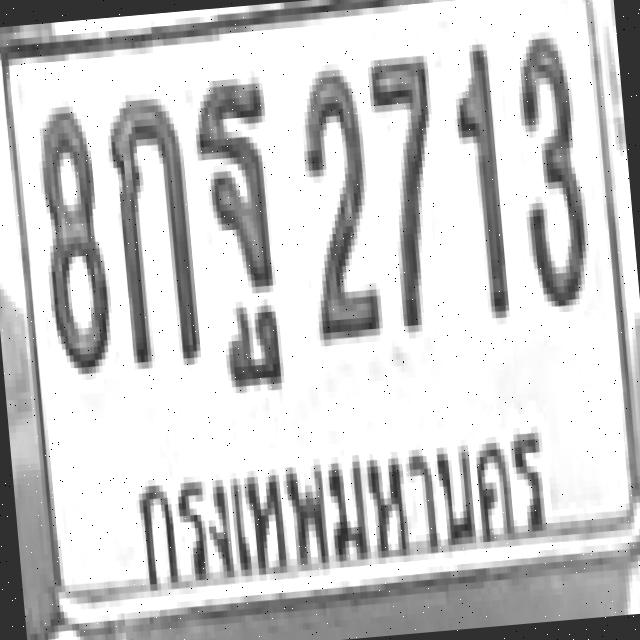1: (446, 36, 509, 314)
10GorGai: (103, 90, 197, 363)
2: (291, 61, 378, 334)
25ThorThan: (188, 73, 282, 346)
3: (506, 27, 586, 304)
7: (362, 45, 446, 324)
8: (34, 97, 114, 376)
Bangkok: (127, 409, 561, 599)
